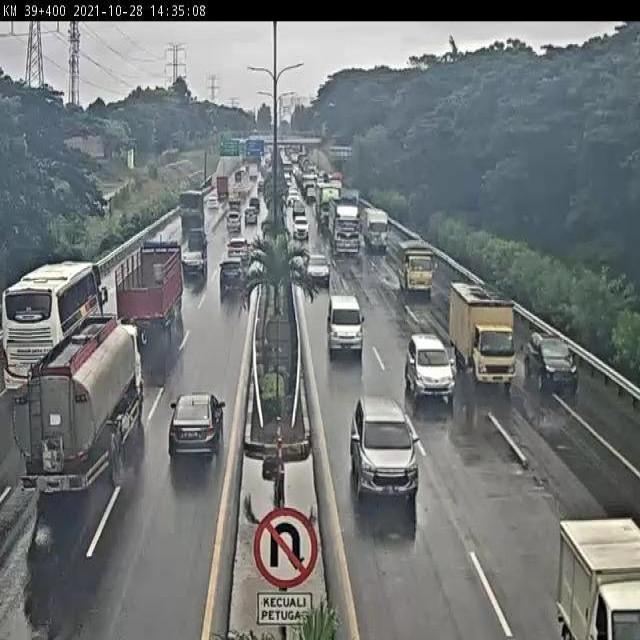big bus: (6, 261, 108, 372)
big truck: (17, 322, 153, 526), (109, 225, 195, 347)
car: (544, 497, 640, 639), (153, 380, 236, 483), (352, 397, 425, 504), (399, 332, 455, 411), (526, 325, 575, 395), (324, 284, 362, 348), (214, 257, 251, 308), (173, 240, 203, 285), (223, 236, 251, 276), (305, 243, 329, 276)
small truck: (453, 284, 517, 385), (389, 236, 433, 293)
